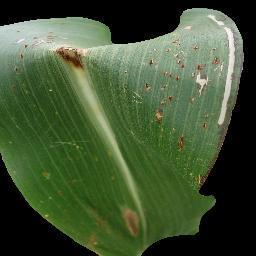Corn_Common_Rust: (176, 12, 243, 189), (10, 22, 97, 96), (128, 35, 178, 137), (77, 206, 112, 256), (118, 205, 146, 240), (66, 173, 94, 188), (70, 135, 92, 154), (98, 144, 121, 161), (39, 207, 58, 222), (108, 170, 124, 185), (40, 168, 55, 183)
